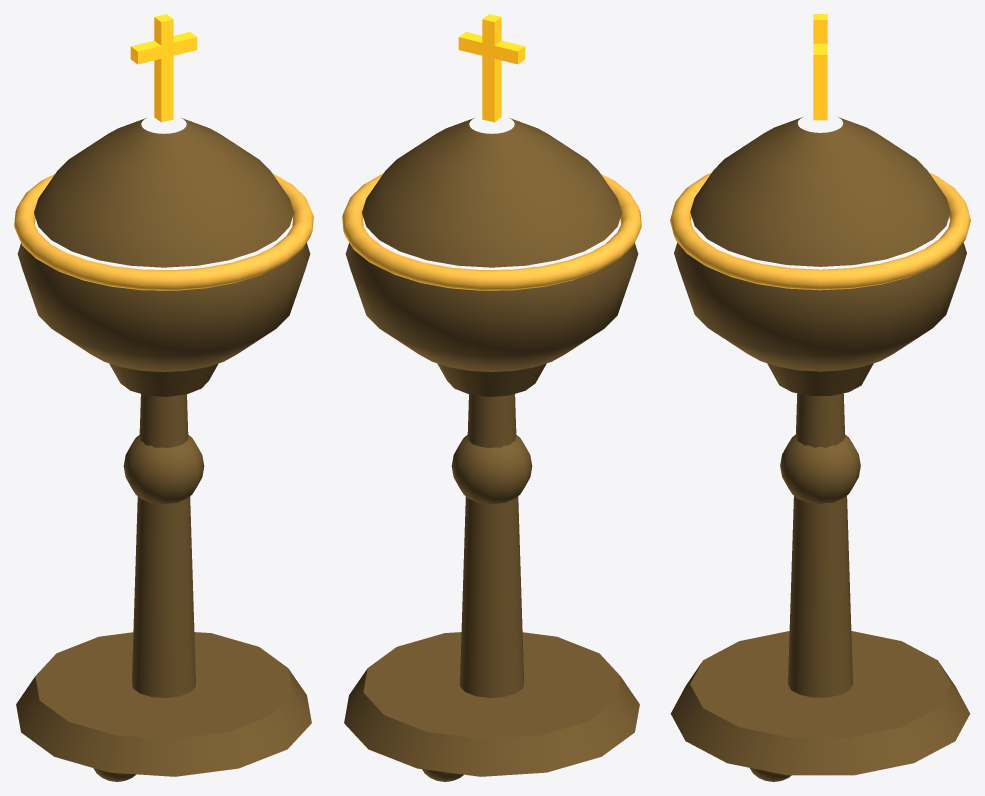
Rendered from incense-burner.glb.
The picture shows the model from 3 angles, left to right: view 1: azimuth 30°, elevation 25°; view 2: azimuth 150°, elevation 25°; view 3: azimuth 270°, elevation 25°; orthographic projection.
Parts seen in each view (by area): view 1: object 4, Lid, Bowl, object 5, object 9, object 6, Cross, object 7; view 2: object 4, Lid, Bowl, object 5, object 9, object 6, Cross, object 7; view 3: object 4, Lid, Bowl, object 5, object 9, object 6, object 7, Cross.
Boxes of the visible parts, x1,y1,x2,y2 form: object 4: (16,632,311,776); Lid: (34,118,293,267); Bowl: (17,243,310,372); object 5: (132,394,195,697); object 9: (14,173,313,290); object 6: (123,435,204,504); Cross: (130,14,197,122); object 7: (109,363,218,396); object 4: (344,632,639,776); Lid: (362,118,621,267); Bowl: (345,243,638,372); object 5: (460,394,523,697); object 9: (342,173,641,290); object 6: (451,435,532,504); Cross: (458,14,525,122); object 7: (437,363,546,396); object 4: (670,631,970,775); Lid: (690,117,950,266); Bowl: (674,242,966,371); object 5: (788,393,852,697); object 9: (670,173,970,290); object 6: (780,434,860,504); object 7: (767,363,873,395); Cross: (813,14,827,120).
Bounding box in the file's own units: 0.462 × 1.23 × 0.462.
